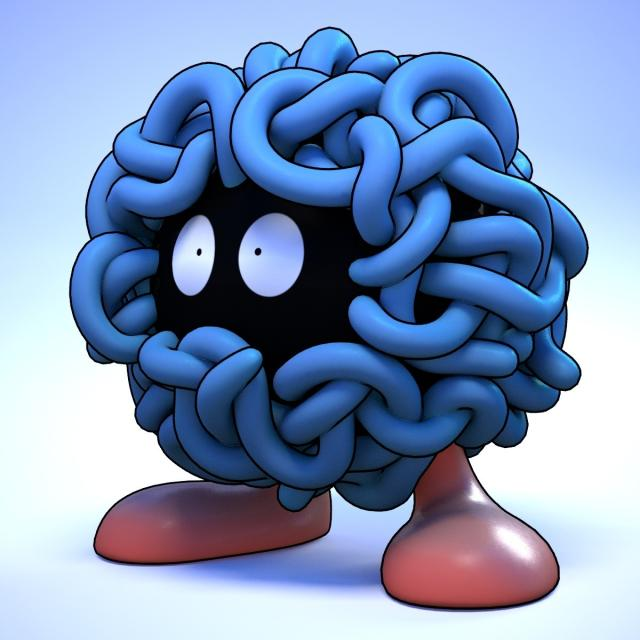Tangela: (122, 84, 500, 545)
